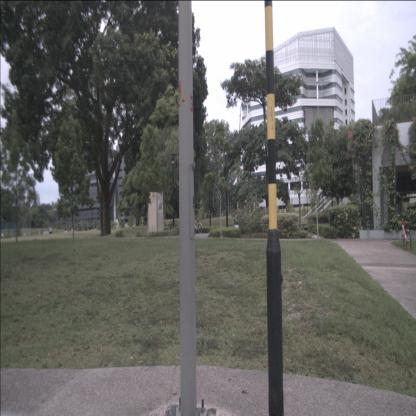vehicle-bicycle: (397, 212, 412, 252), (188, 216, 203, 234)
